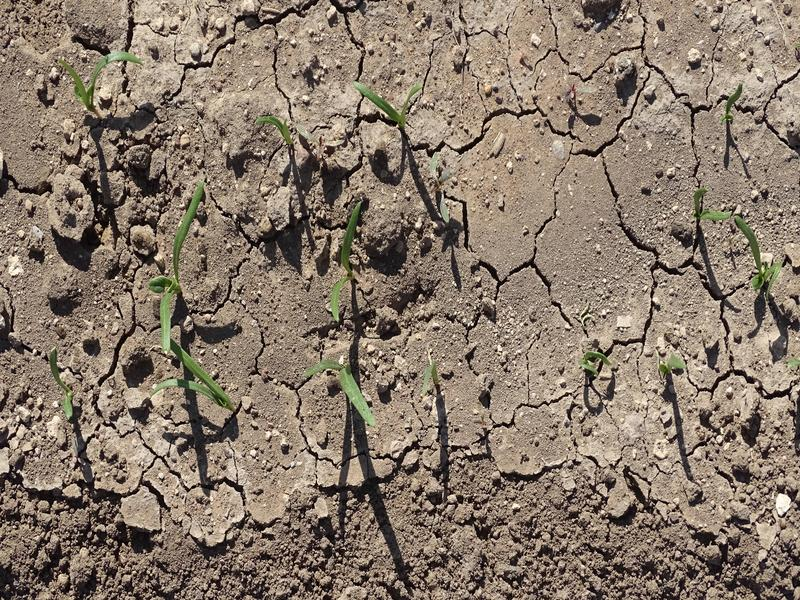Espinaca: (147, 180, 212, 353), (146, 339, 242, 418), (55, 44, 147, 107), (324, 202, 376, 311), (309, 352, 378, 426), (345, 70, 426, 128), (731, 215, 785, 296), (257, 113, 316, 147)
